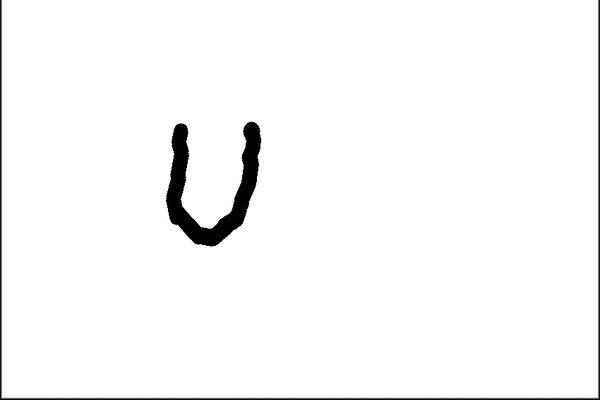U: (158, 115, 274, 247)
